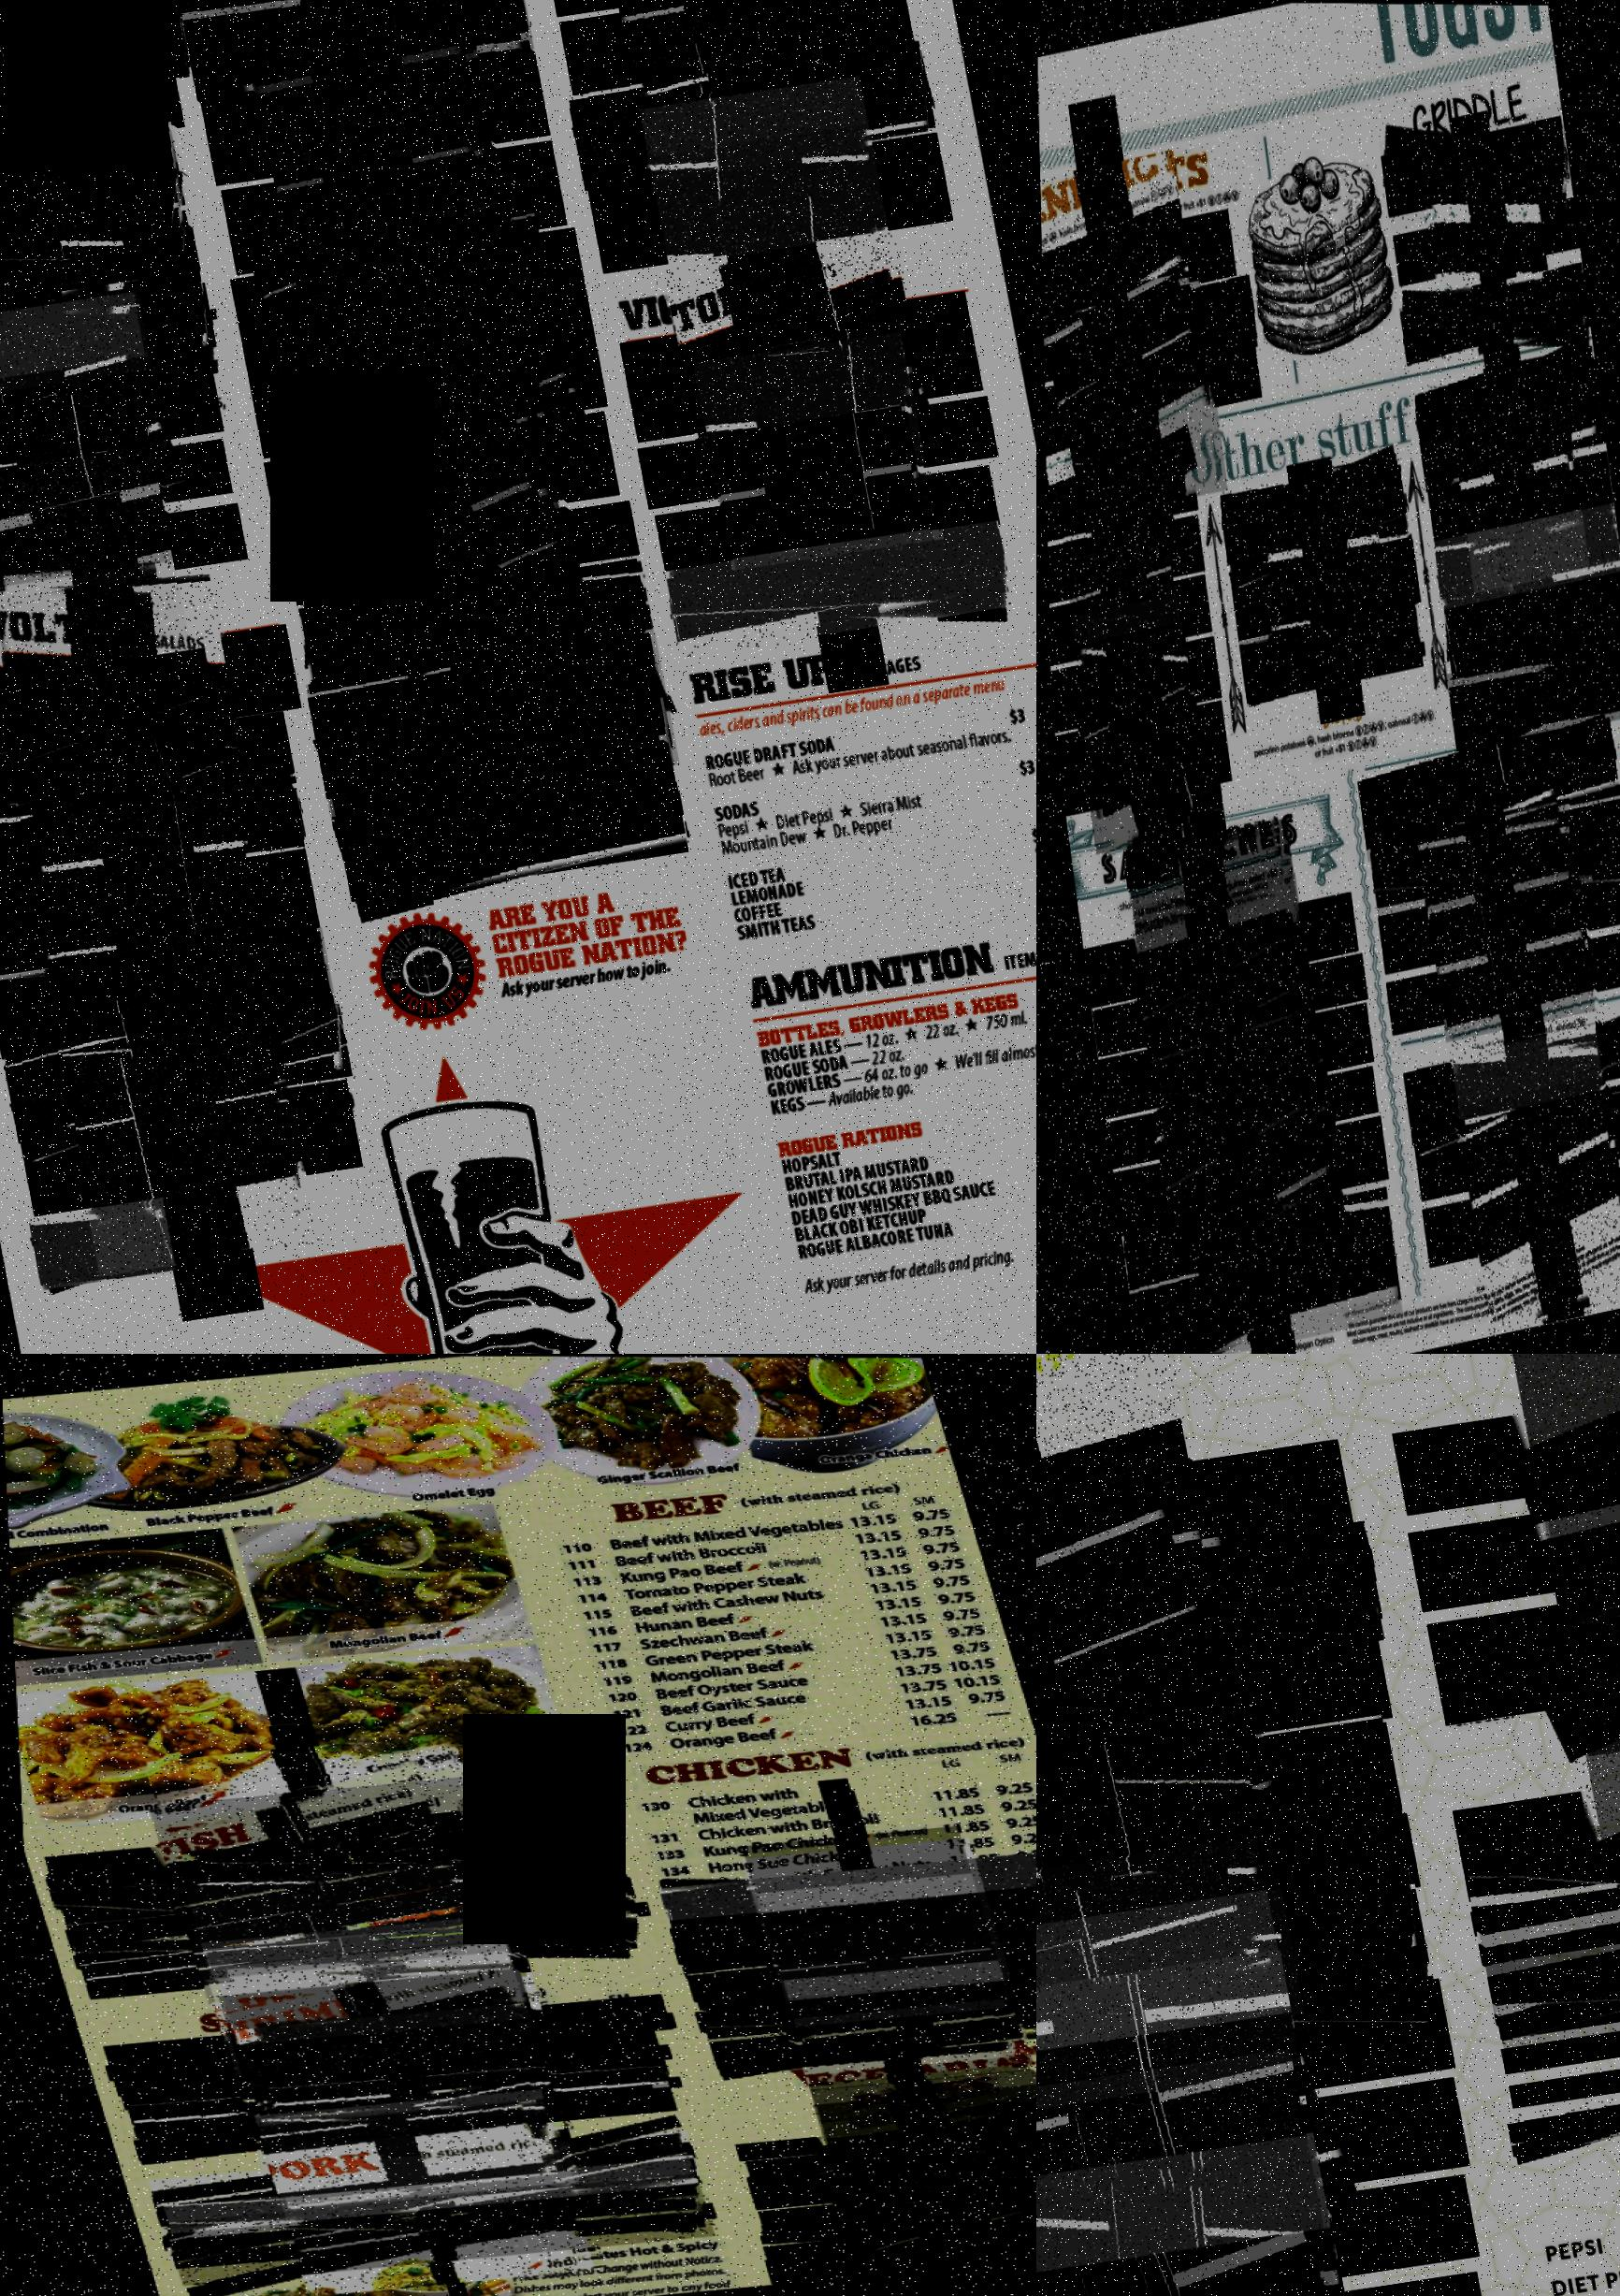Menu-Items: (1036, 1831, 1346, 2296), (1036, 1477, 1289, 1970), (1036, 1673, 1297, 2129), (249, 177, 582, 505), (1036, 1947, 1345, 2296), (1036, 1677, 1406, 1954), (1036, 1863, 1431, 2101), (146, 1777, 522, 2007), (140, 1731, 507, 1954), (174, 1856, 540, 2079), (174, 1824, 538, 2047), (1036, 1354, 1234, 1763), (198, 1952, 559, 2171), (1036, 2047, 1354, 2296), (212, 1968, 570, 2185), (1036, 1517, 1383, 1740), (203, 1922, 556, 2138), (209, 1940, 561, 2154), (659, 230, 936, 502), (226, 2001, 575, 2212), (300, 630, 679, 823), (245, 2087, 593, 2296), (54, 1854, 636, 1975), (303, 347, 570, 609), (326, 424, 591, 684), (0, 554, 249, 830), (259, 77, 522, 337), (636, 75, 899, 333), (54, 1024, 312, 1277), (321, 740, 687, 917), (240, 0, 503, 244), (14, 788, 266, 1037), (289, 544, 654, 714), (687, 328, 940, 574), (563, 37, 938, 196), (0, 645, 242, 891), (1143, 1033, 1348, 1319), (158, 2184, 714, 2287), (1036, 2131, 1380, 2296), (139, 2128, 694, 2228), (705, 403, 941, 635), (1133, 923, 1329, 1198), (72, 1905, 629, 2000), (0, 1002, 352, 1151), (40, 1824, 622, 1914), (117, 2045, 666, 2140), (153, 2157, 696, 2252), (1129, 870, 1320, 1138), (1120, 817, 1311, 1084), (657, 517, 1012, 661), (149, 2175, 703, 2264), (0, 923, 335, 1070), (1143, 986, 1331, 1247), (1041, 267, 1227, 524), (0, 288, 177, 544), (1413, 796, 1594, 1047), (1424, 856, 1604, 1107), (740, 1854, 1013, 2019), (736, 1836, 1006, 2001), (759, 1921, 1027, 2084), (123, 2084, 671, 2163), (0, 442, 188, 670), (0, 767, 302, 905), (1453, 1086, 1620, 1337), (1448, 1024, 1620, 1265), (607, 0, 864, 160), (1352, 714, 1620, 863), (763, 1908, 1019, 2064), (736, 1824, 992, 1980), (750, 1875, 1006, 2029), (805, 2082, 1036, 2252), (1113, 1166, 1389, 1308), (0, 379, 174, 602), (1119, 1216, 1397, 1354), (1038, 147, 1199, 386), (799, 2052, 1036, 2214), (805, 2070, 1036, 2231), (805, 2115, 1036, 2277), (177, 0, 536, 103), (814, 2101, 1036, 2266), (1364, 791, 1620, 928), (0, 147, 146, 388), (0, 0, 133, 254), (0, 109, 193, 281), (0, 265, 221, 412), (1459, 1773, 1620, 1970), (1469, 1805, 1620, 2008), (622, 1759, 1036, 1833), (1397, 1012, 1620, 1149), (1410, 342, 1606, 495), (650, 1847, 1036, 1924), (1252, 491, 1392, 686), (1069, 661, 1210, 854), (1041, 272, 1257, 396), (677, 1933, 1036, 2007), (1378, 100, 1573, 233), (1450, 403, 1587, 593), (1215, 451, 1410, 582), (1043, 398, 1176, 589), (701, 2001, 1036, 2077), (614, 1698, 1019, 1759), (0, 0, 191, 130), (568, 1566, 984, 1626), (589, 1651, 1003, 1710), (1418, 149, 1552, 333), (1064, 593, 1197, 777), (1436, 556, 1620, 689), (545, 1500, 956, 1559), (1476, 1857, 1620, 2028), (638, 1824, 1036, 1886), (549, 1517, 964, 1575), (582, 1615, 996, 1673), (561, 1535, 971, 1593), (631, 1791, 1036, 1849), (580, 1600, 985, 1658), (582, 1633, 999, 1689), (696, 1984, 1036, 2052), (575, 1584, 987, 1640), (596, 1666, 1005, 1722), (750, 2205, 1036, 2284), (1396, 260, 1590, 375), (650, 1842, 1036, 1900), (565, 1552, 971, 1607), (750, 2194, 1036, 2271), (608, 1684, 1012, 1738), (1443, 631, 1620, 754), (1429, 500, 1620, 610), (1054, 475, 1176, 645), (1061, 535, 1183, 705), (587, 0, 856, 77), (647, 1812, 1036, 1865), (1236, 602, 1424, 705), (19, 1198, 170, 1291), (1497, 2056, 1620, 2157)
